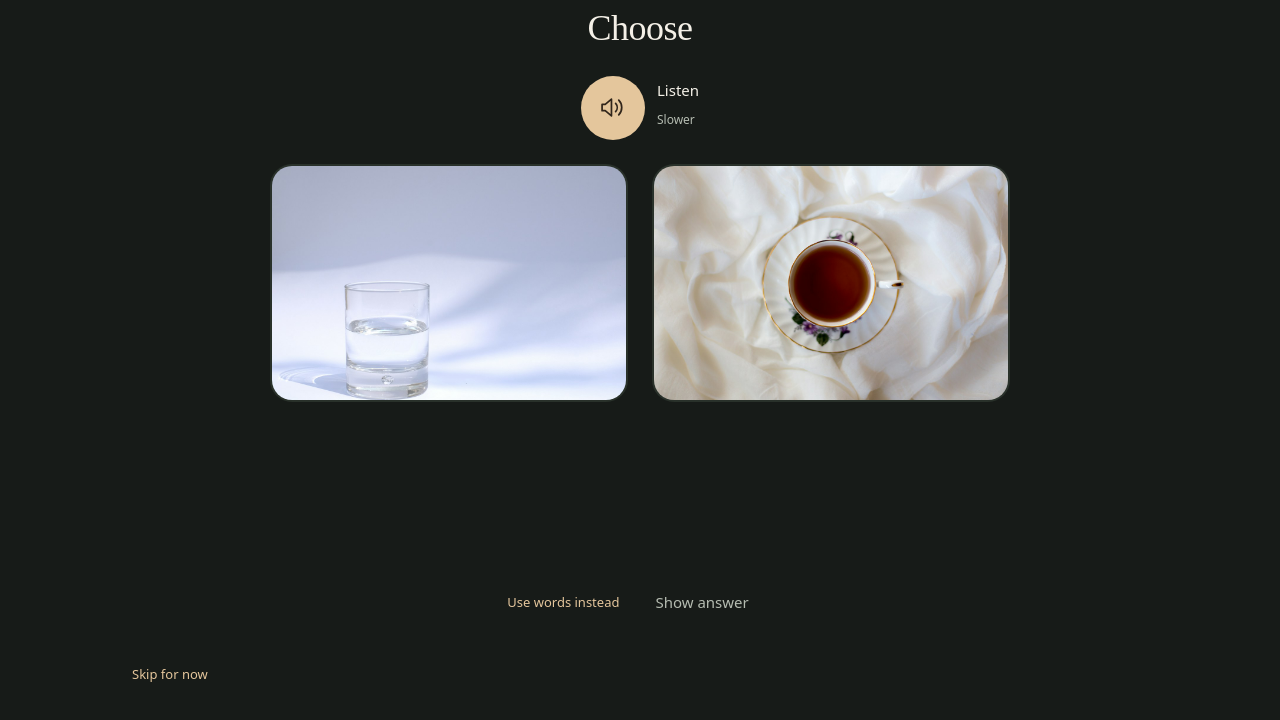
it: consumer learning interactions › offers known word choices as an accessible alternative to photographs
This screenshot has width=1280, height=720.
(page scrolled)
Click the button with aria-label "Use word choices".
click(563, 602)  # box [507, 580, 620, 624]
(page scrolled)
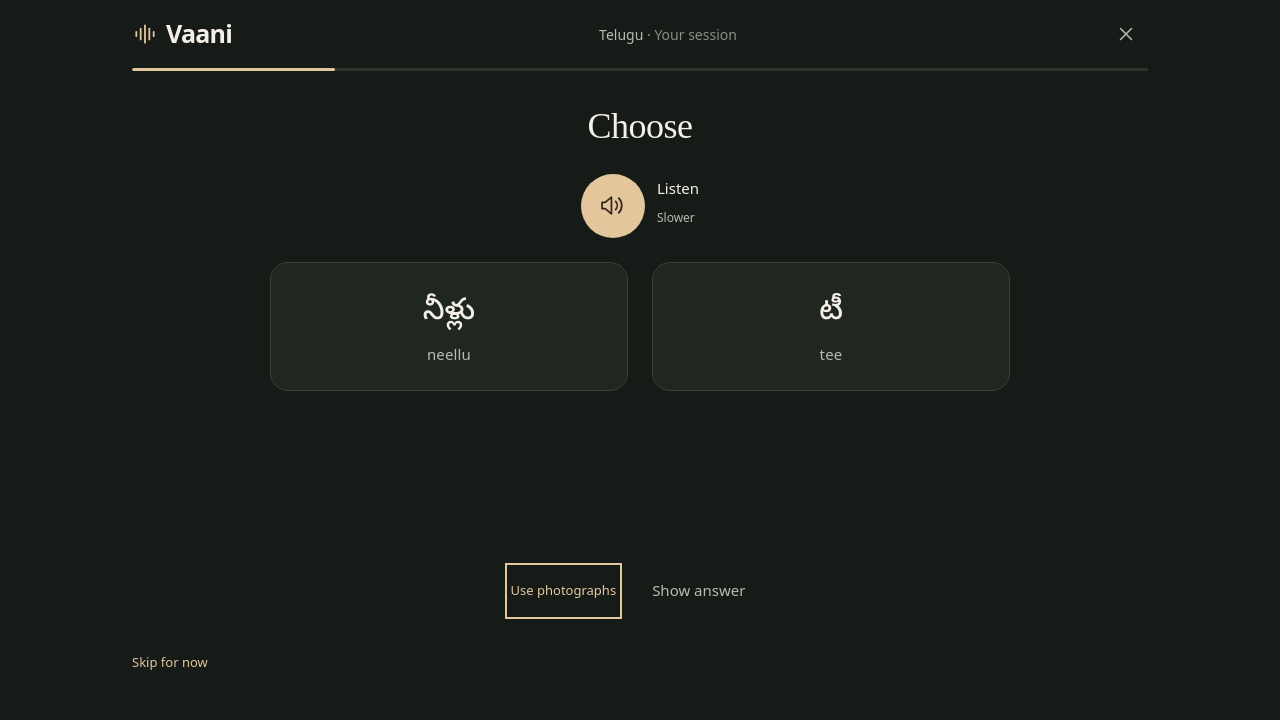
Click the button "నీళ్లు neellu".
click(449, 326)  # box [270, 262, 628, 391]
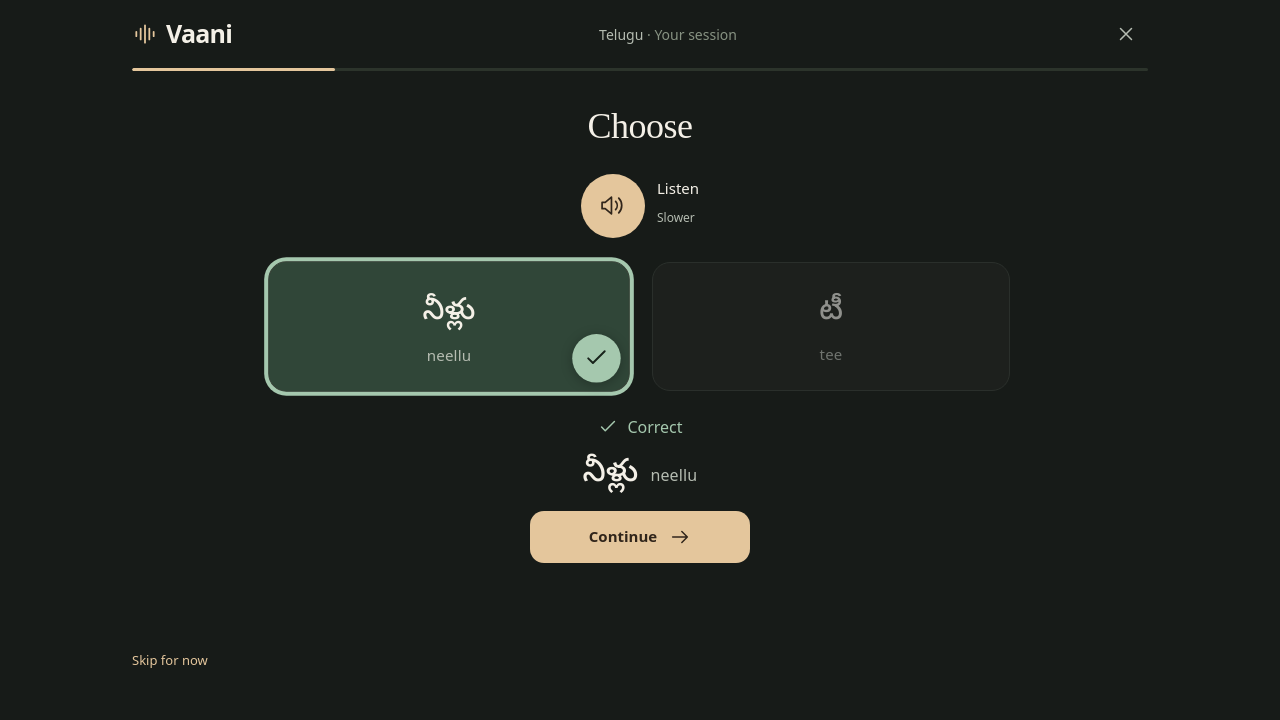
Check: the text "Correct" is shown, box [627, 415, 683, 439]
